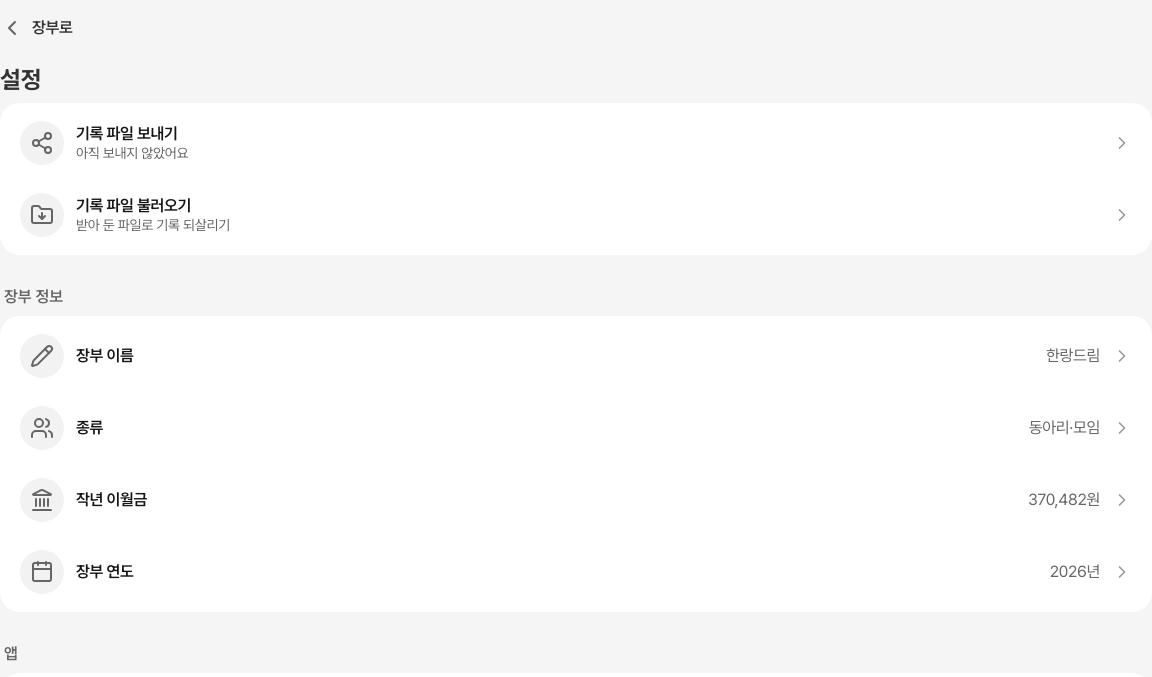
Test: SPEC-001·002 설정 화면 › 편집 화면 (장부 이름·작년 이월금) › [장부 이름] 줄을 누르면 설정 목록 대신 그 값 하나만 고치는 화면이 열린다
Click the button "장부 이름 한랑드림" at [42, 356], box [0,320,1151,392]
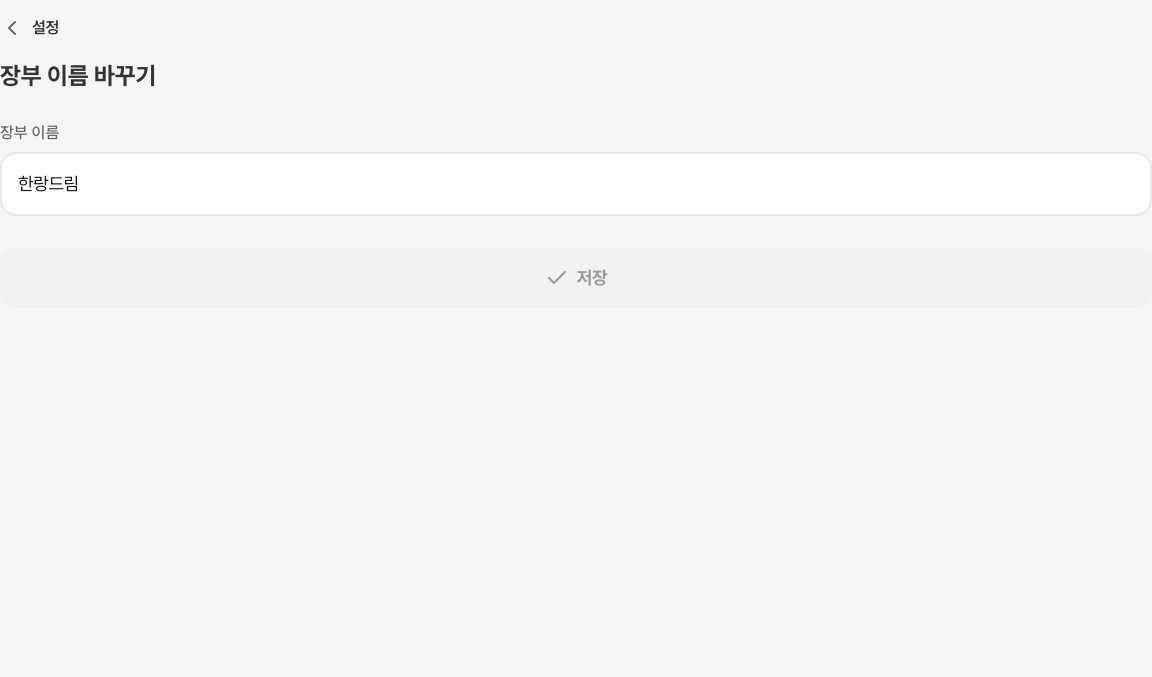
Now the heading "장부 이름 바꾸기" is shown, box [0,61,156,90]
Now the field labelled "장부 이름" holds "한랑드림", box [0,152,1151,216]
Now the element with test id "settings-block-files" is gone
